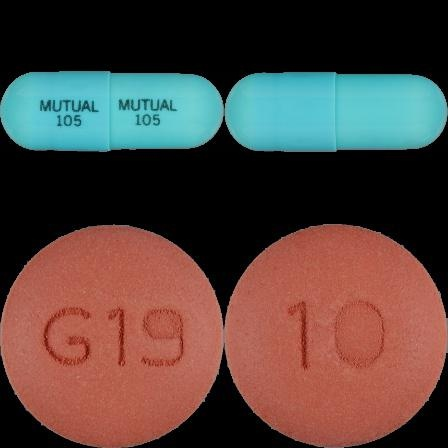45865-444: (0, 0, 224, 224)
